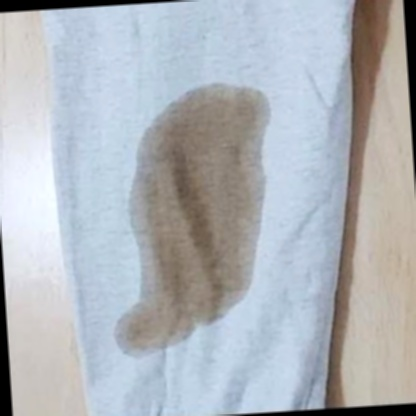coffee: (125, 95, 267, 313)
